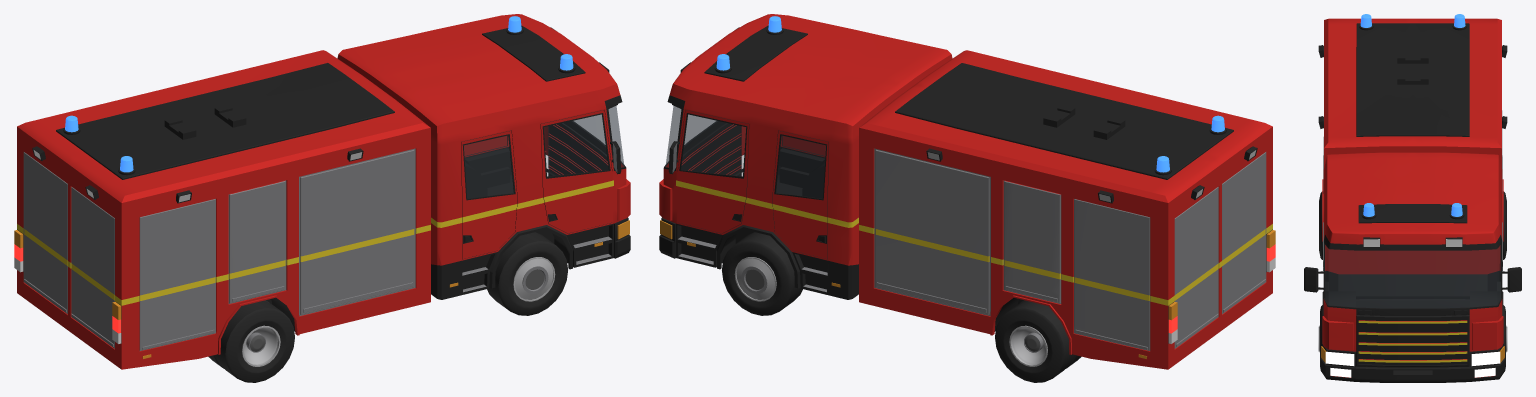
The model's file is blaze.glb.
3 renders of one model, left to right at view 1: azimuth 30°, elevation 25°; view 2: azimuth 150°, elevation 25°; view 3: azimuth 270°, elevation 25°, orthographic. The views are drawn at different scales.
Visible parts, largest first — view 1: body, wheel_RR, wheel_FR; view 2: body, wheel_RL, wheel_FL; view 3: body, wheel_RL, wheel_RR.
Part boxes in pixels (x1,y1,x2,y2): body: (14,14,630,369); wheel_RR: (208,300,294,382); wheel_FR: (487,232,567,315); body: (659,14,1275,369); wheel_RL: (995,300,1081,382); wheel_FL: (722,232,802,315); body: (1304,14,1521,382); wheel_RL: (1503,191,1506,259); wheel_RR: (1319,191,1322,259).
Size of the model in its own units: 7.27 by 3.05 by 3.07.
